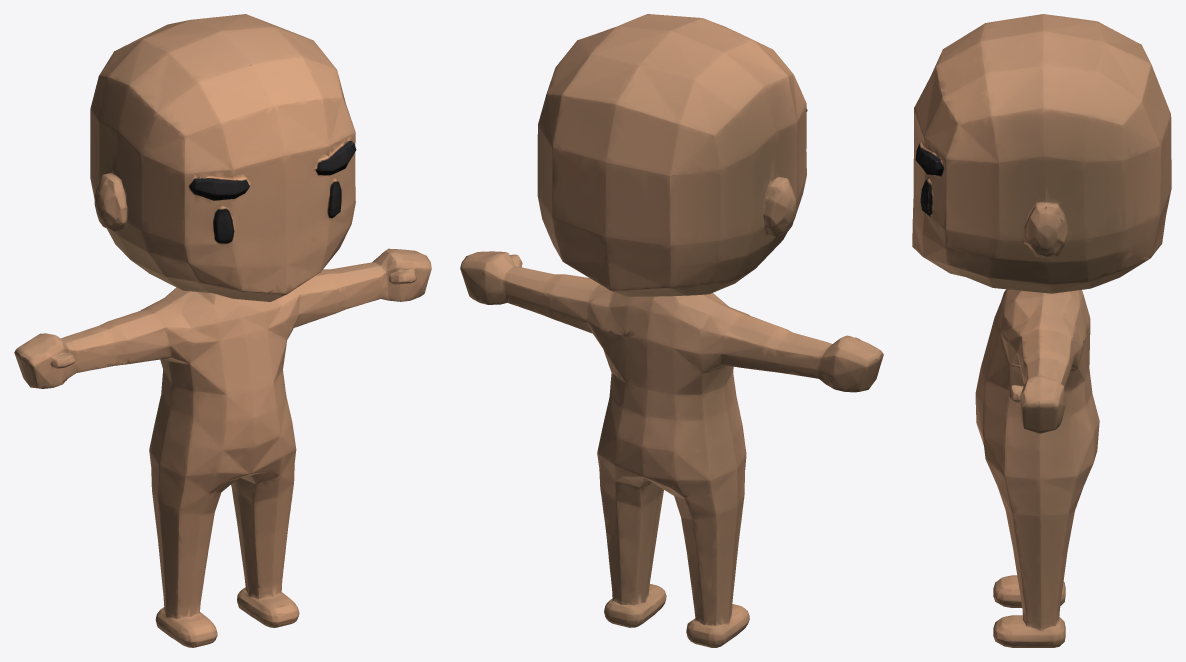
Rendered from cuerpo-h-hunyuan.glb.
3 renders of one model, left to right at view 1: azimuth 30°, elevation 25°; view 2: azimuth 150°, elevation 25°; view 3: azimuth 270°, elevation 25°, orthographic.
Visible parts, largest first — view 1: node_0; view 2: node_0; view 3: node_0.
Part boxes in pixels (x1,y1,x2,y2): node_0: [14, 14, 431, 647]; node_0: [460, 14, 883, 647]; node_0: [912, 14, 1171, 647].
Size of the model in its own units: 0.8498 by 1.18 by 0.4687.
Materials: 1 (1 with a texture image).
